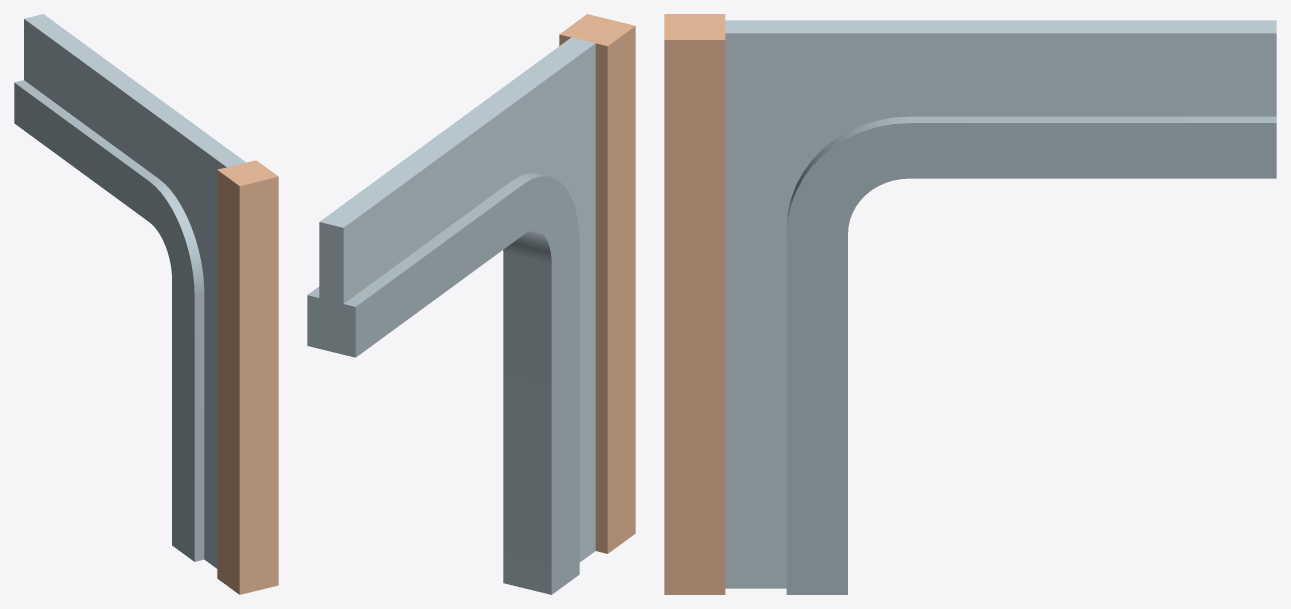
File: wallDoorwaySquareWideCurved.glb
The picture shows the model from 3 angles, left to right: view 1: azimuth 30°, elevation 25°; view 2: azimuth 150°, elevation 25°; view 3: azimuth 270°, elevation 25°; orthographic projection. The views are drawn at different scales.
Visible parts, largest first — view 1: wallDoorwaySquareWideCurved; view 2: wallDoorwaySquareWideCurved; view 3: wallDoorwaySquareWideCurved.
Boxes of the visible parts, x1,y1,x2,y2 form: wallDoorwaySquareWideCurved: [14, 14, 278, 594]; wallDoorwaySquareWideCurved: [307, 14, 635, 594]; wallDoorwaySquareWideCurved: [664, 14, 1276, 594].
Bounding box in the file's own units: 0.1 × 1 × 1.
